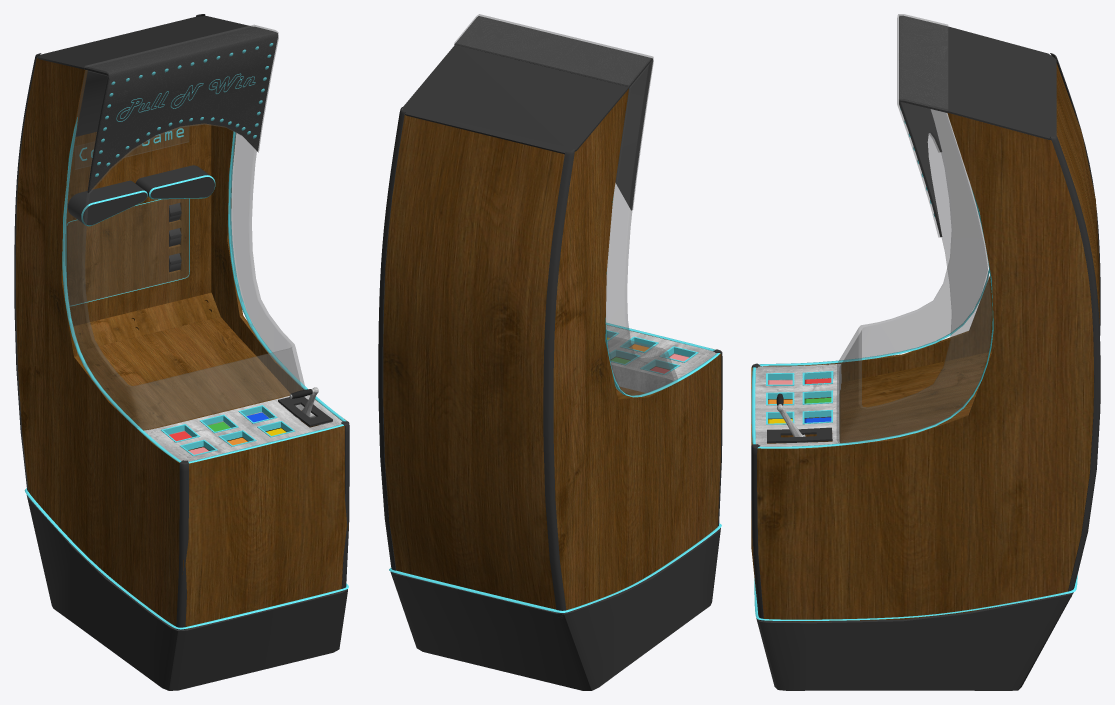
The model's file is Machine2.fbx.
3 views of the same model, side by side, from view 1: azimuth 30°, elevation 25°; view 2: azimuth 150°, elevation 25°; view 3: azimuth 270°, elevation 25° (orthographic). The views are drawn at different scales.
Parts seen in each view (by area): view 1: MainBody, GlassSides, Framework, CubeCheck, HeaderGlass, HeaderLights, PlayFloor, ComboPanel, TopPannel, BettingPanel, BounceEdge, MetalFrame (+9 smaller); view 2: MainBody, Framework, TopPannel, HeaderLights, GlassSides, MetalFrame, HeaderGlass, BettingPanel, ColorPicker, NeonLight_50, NeonLight_51; view 3: MainBody, GlassSides, Framework, TopPannel, PlayFloor, HeaderLights, MetalFrame, HeaderGlass, BettingPanel, NeonLight_51, ColorPicker, LeverMecha (+1 smaller).
Boxes of the visible parts, x1,y1,x2,y2 form: MainBody: (16, 57, 348, 629); GlassSides: (63, 70, 305, 430); Framework: (26, 495, 347, 690); CubeCheck: (65, 123, 211, 325); HeaderGlass: (85, 25, 278, 193); HeaderLights: (85, 26, 277, 192); PlayFloor: (77, 316, 301, 430); ComboPanel: (70, 199, 188, 305); TopPannel: (37, 16, 252, 69); BettingPanel: (144, 395, 342, 461); BounceEdge: (73, 292, 220, 351); MetalFrame: (14, 14, 349, 630); MainBody: (383, 89, 721, 609); Framework: (390, 528, 720, 690); TopPannel: (402, 45, 628, 154); HeaderLights: (454, 16, 652, 210); GlassSides: (606, 60, 677, 397); MetalFrame: (378, 107, 722, 618); HeaderGlass: (454, 14, 653, 209); BettingPanel: (606, 325, 716, 392); ColorPicker: (606, 330, 698, 374); NeonLight_50: (389, 523, 721, 612); NeonLight_51: (605, 196, 720, 397); MainBody: (751, 63, 1099, 621); GlassSides: (837, 102, 991, 443); Framework: (756, 592, 1073, 690); TopPannel: (947, 26, 1056, 140); PlayFloor: (841, 351, 992, 443); HeaderLights: (899, 15, 947, 237); MetalFrame: (751, 53, 1100, 621); HeaderGlass: (897, 14, 947, 237); BettingPanel: (755, 364, 841, 446); NeonLight_51: (751, 187, 993, 448); ColorPicker: (766, 371, 833, 424); LeverMecha: (767, 427, 832, 442).
Size of the model in its own units: 52.34 by 163 by 87.17.
13 materials, 7 textured.
